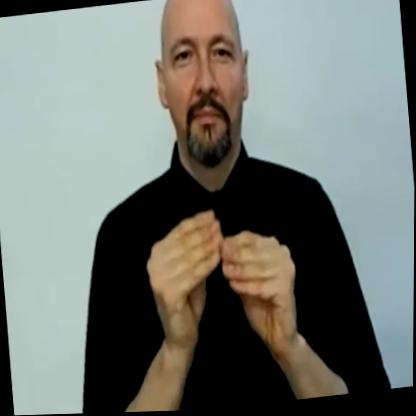Fix: (130, 175, 320, 371)
